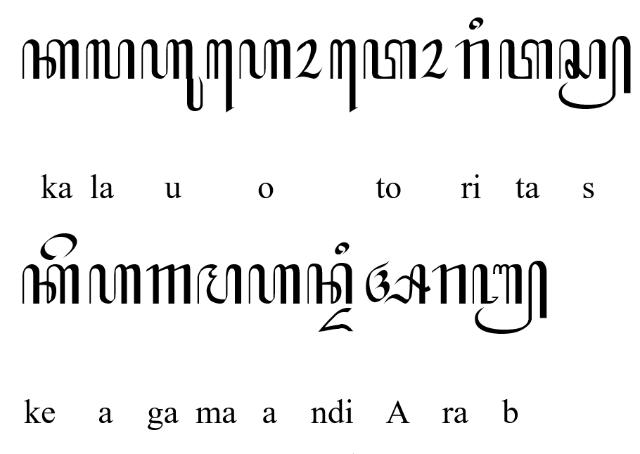-b: (472, 260, 548, 334)
-s: (558, 34, 632, 110)
A: (365, 260, 431, 304)
_d: (316, 308, 354, 333)
e: (41, 233, 78, 261)
e1: (329, 38, 358, 114), (206, 38, 234, 114)
g: (146, 262, 192, 306)
h: (248, 262, 300, 306), (238, 38, 292, 80), (88, 264, 142, 304)
hu: (140, 38, 204, 112)
i: (468, 17, 484, 32), (335, 241, 349, 255)
k: (22, 262, 80, 306), (22, 38, 80, 80)
l: (84, 38, 136, 80)
m: (197, 262, 243, 306)
n: (307, 263, 353, 305)
o: (420, 39, 448, 80), (295, 38, 323, 78)
r: (454, 39, 490, 79), (432, 264, 466, 304)
t: (363, 40, 417, 80), (499, 39, 553, 79)
